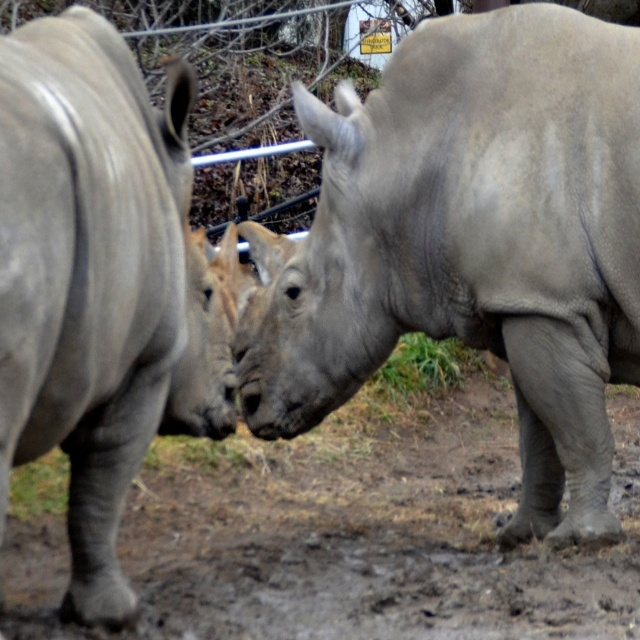Rhinoceros: (235, 0, 640, 552), (0, 0, 235, 631)
